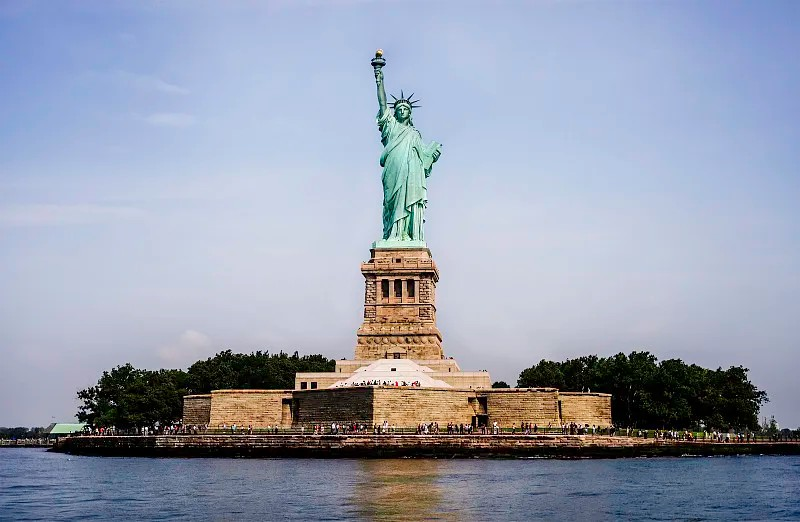SL: (354, 47, 444, 360)
